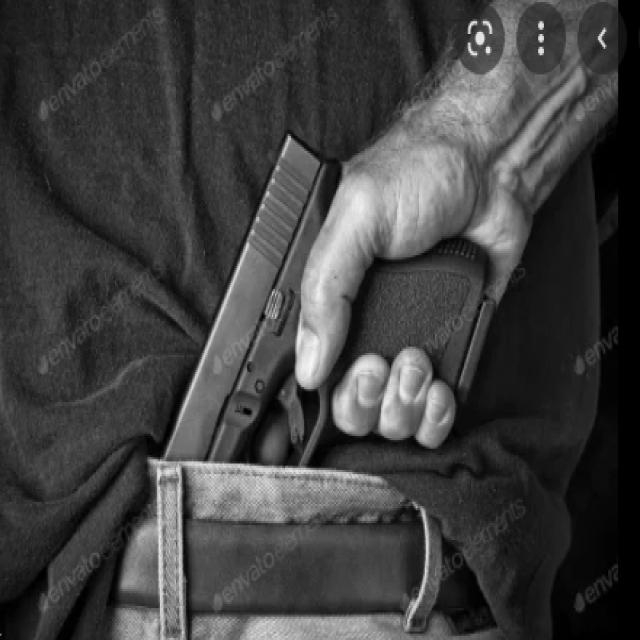gun: (163, 126, 491, 463)
